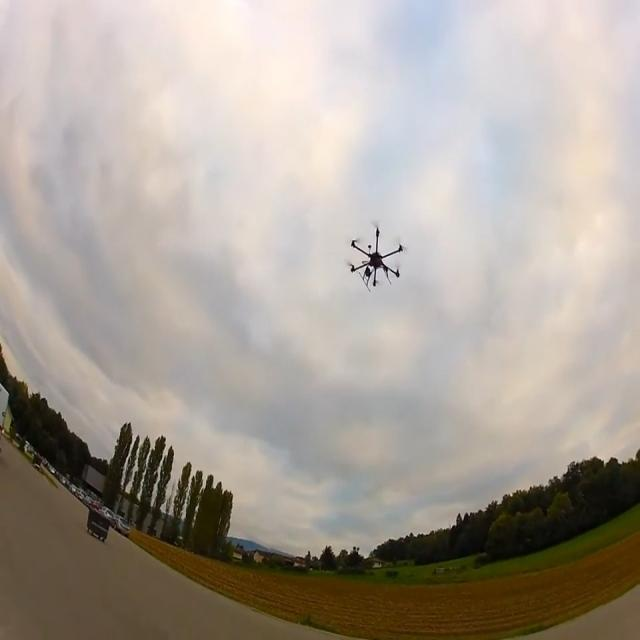drone: (347, 226, 404, 292)
